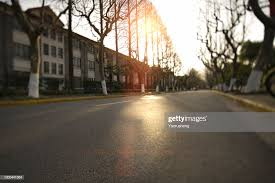strada: (1, 105, 271, 182)
